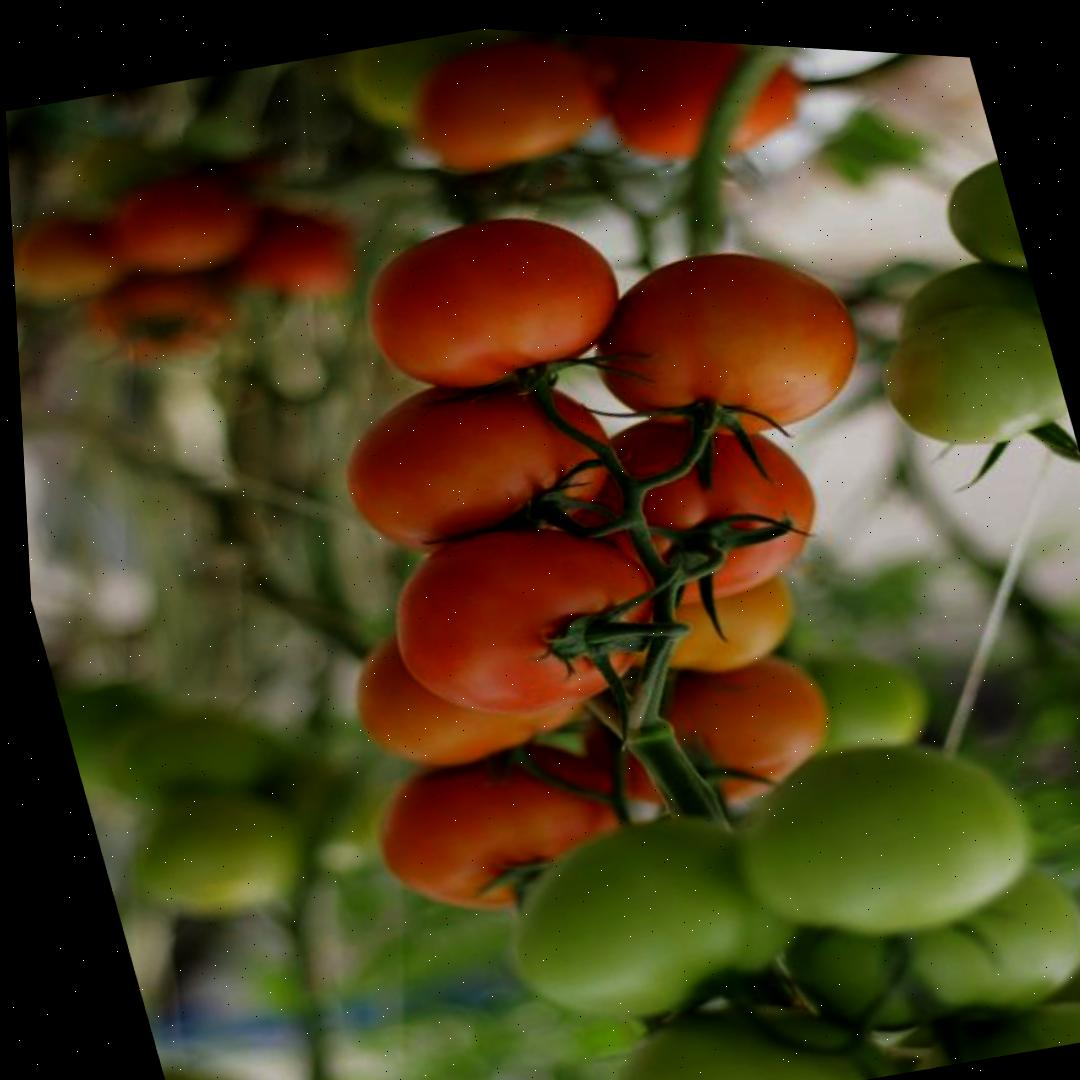matang: (369, 493, 683, 750), (343, 184, 643, 421)
mentah: (864, 286, 1075, 468)
setengah_matang: (564, 213, 885, 471)
